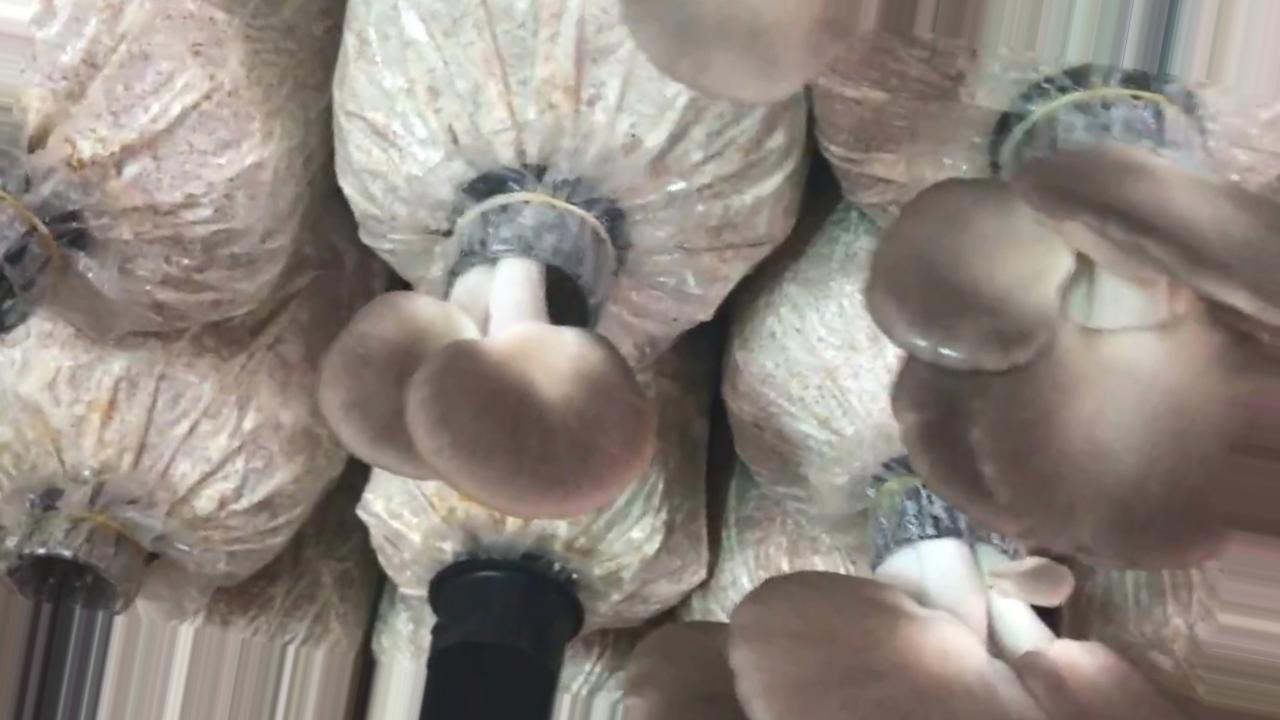nam: (874, 89, 1280, 572), (617, 456, 1280, 718), (323, 191, 653, 518), (623, 1, 867, 103)
